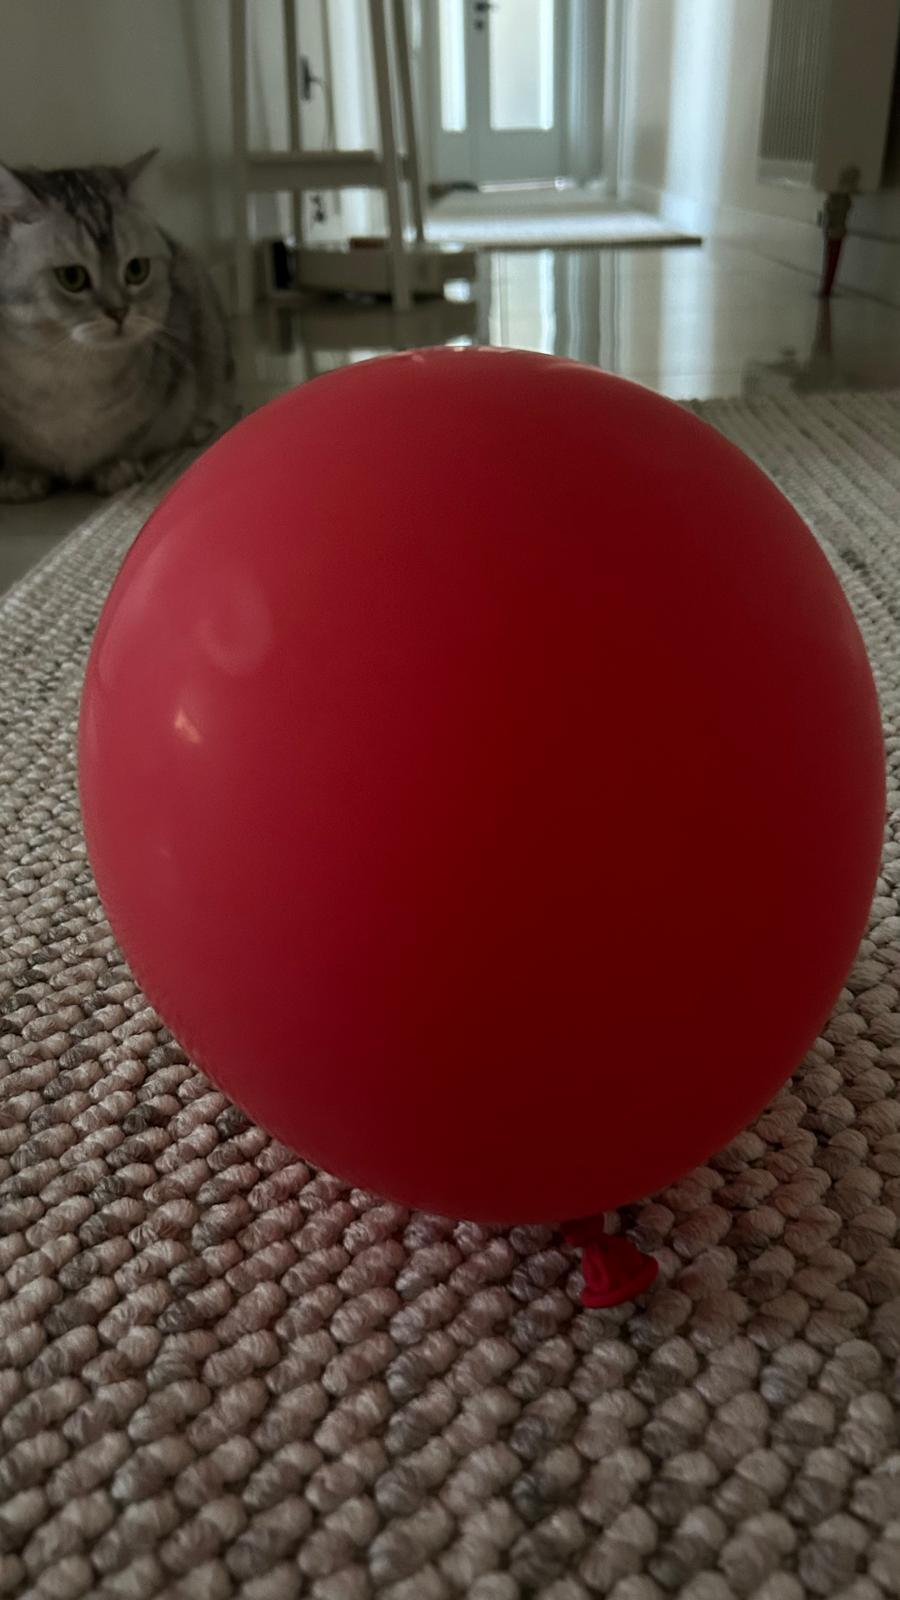red: (74, 341, 900, 1308)
